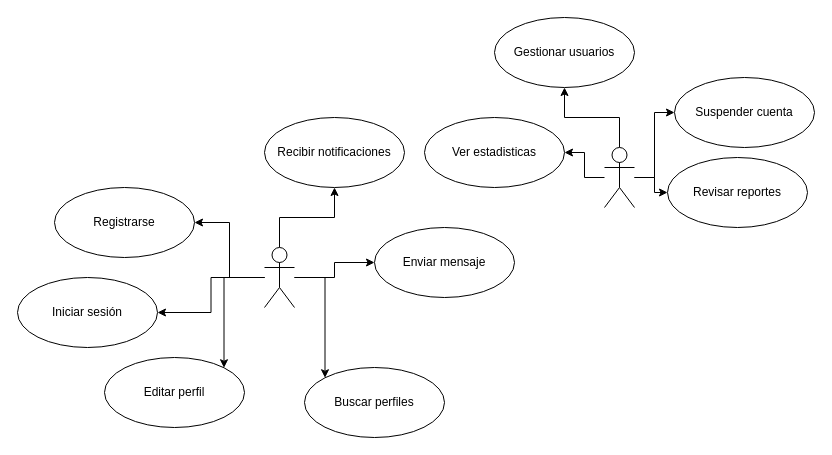
Some shapes in this 832 by 455 pixel diagram are drawn without their labels. Here are the shapes that lost their labels. From the top down, the centre of each, then its label:
the point at 619,177: Administrador
the point at 279,277: Usuario
